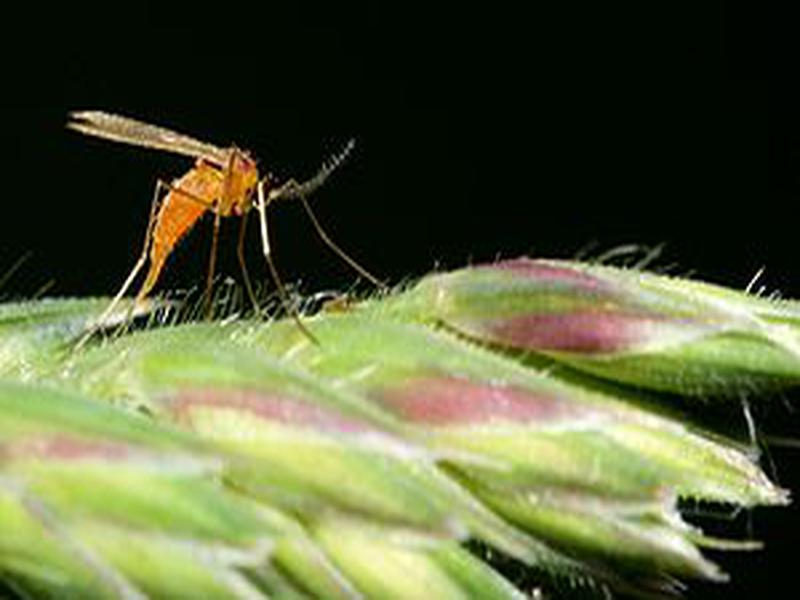Gall_midge: (61, 103, 362, 316)
